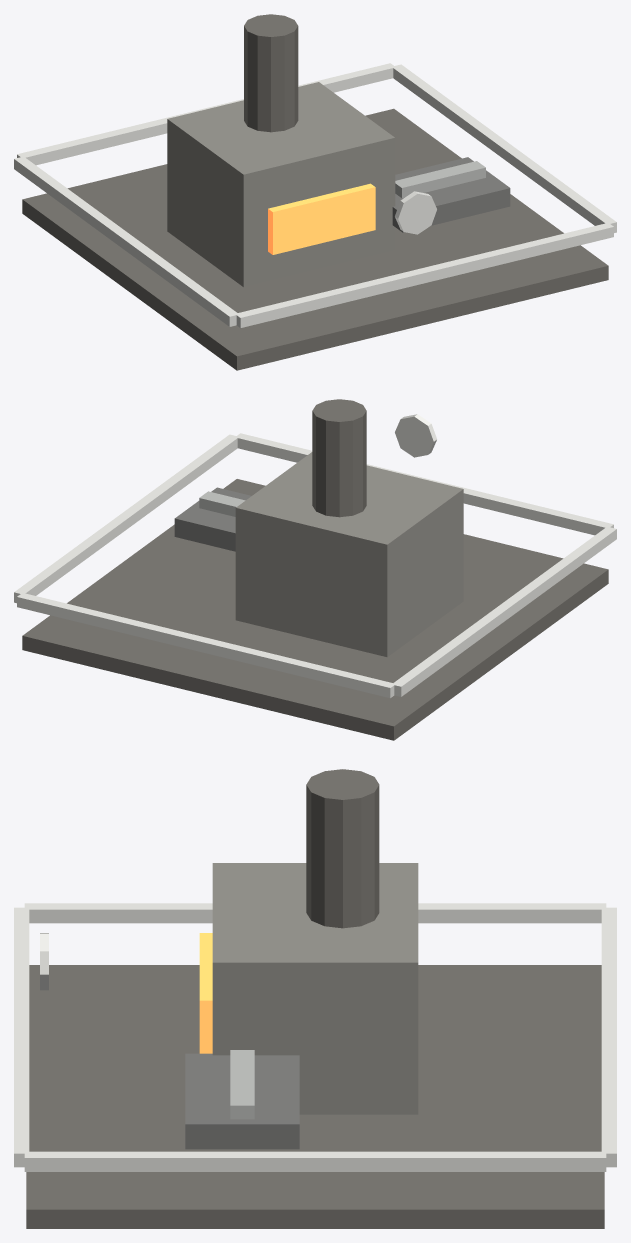
The model's file is t8_smelter.glb.
3 views of the same model, one above another, from view 1: azimuth 30°, elevation 25°; view 2: azimuth 150°, elevation 25°; view 3: azimuth 270°, elevation 25° (orthographic). The views are drawn at different scales.
Visible parts, largest first — view 1: FootprintBase, FurnaceBody, Chimney, TierFrontTrim, HearthGlow, TierLeftTrim, TierRightTrim, TierBackTrim, IngotTray, TierEmblem, Ingot, Ingot.002; view 2: FootprintBase, FurnaceBody, Chimney, TierBackTrim, TierLeftTrim, TierRightTrim, TierFrontTrim, IngotTray, TierEmblem, Ingot.003; view 3: FootprintBase, FurnaceBody, TierRightTrim, Chimney, IngotTray, TierLeftTrim, TierBackTrim, TierFrontTrim, HearthGlow, Ingot.003.
Boxes of the visible parts, <box> form: FootprintBase: <box>22,108,608,370</box>; FurnaceBody: <box>167,82,395,287</box>; Chimney: <box>244,14,298,132</box>; TierFrontTrim: <box>236,223,613,327</box>; HearthGlow: <box>268,183,375,254</box>; TierLeftTrim: <box>14,157,238,326</box>; TierRightTrim: <box>393,64,616,232</box>; TierBackTrim: <box>17,63,395,165</box>; IngotTray: <box>392,157,510,232</box>; TierEmblem: <box>395,191,436,234</box>; Ingot: <box>395,174,433,198</box>; Ingot.002: <box>437,165,468,189</box>; FootprintBase: <box>22,479,608,740</box>; FurnaceBody: <box>235,452,463,657</box>; Chimney: <box>312,399,366,517</box>; TierBackTrim: <box>17,593,395,698</box>; TierLeftTrim: <box>392,527,616,696</box>; TierRightTrim: <box>14,434,238,603</box>; TierFrontTrim: <box>235,433,613,535</box>; IngotTray: <box>174,487,251,551</box>; TierEmblem: <box>395,414,437,457</box>; Ingot.003: <box>199,491,238,515</box>; FootprintBase: <box>26,965,604,1228</box>; FurnaceBody: <box>212,863,418,1114</box>; TierRightTrim: <box>24,1151,606,1171</box>; Chimney: <box>306,769,379,928</box>; IngotTray: <box>185,1053,299,1149</box>; TierLeftTrim: <box>24,903,606,923</box>; TierBackTrim: <box>601,907,616,1167</box>; TierFrontTrim: <box>14,907,29,1167</box>; HearthGlow: <box>199,933,212,1053</box>; Ingot.003: <box>230,1085,254,1119</box>.
Size of the model in its own units: 3.96 by 2.17 by 3.96.
